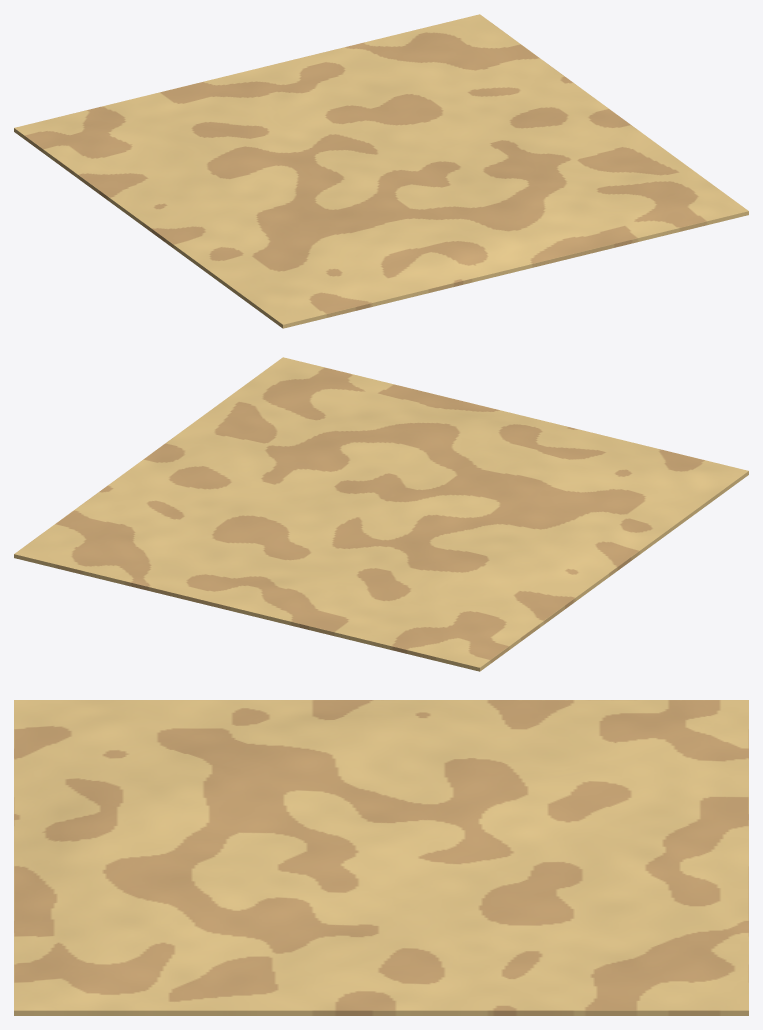
File: Desert_Flat_09.obj
3 views of the same model, one above another, from view 1: azimuth 30°, elevation 25°; view 2: azimuth 150°, elevation 25°; view 3: azimuth 270°, elevation 25° (orthographic). The views are drawn at different scales.
Size of the model in its own units: 10 by 0.237 by 10.
Materials: 1 (1 with a texture image).
